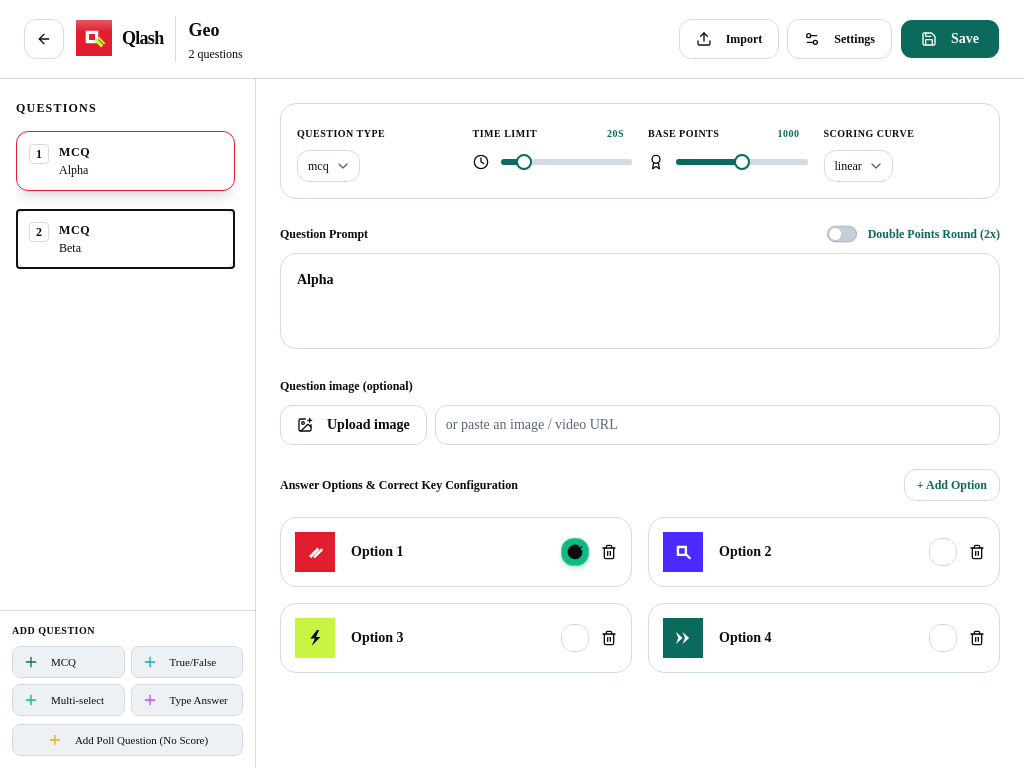
Test: editor save and reorder › selects a question from the keyboard and names the settings switches
Step 1. Press Enter
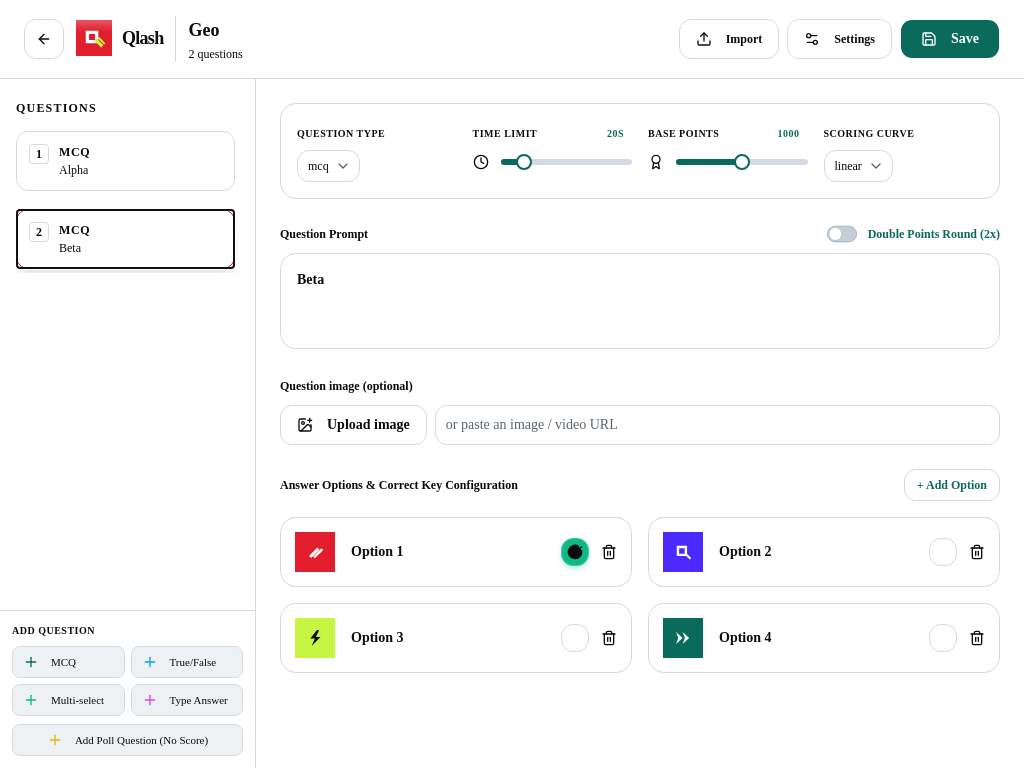
Check: the text box showing "Beta" is shown, box [280, 253, 1000, 349]
Step 2. Click the button "Settings" → (840, 39), box [787, 19, 892, 59]
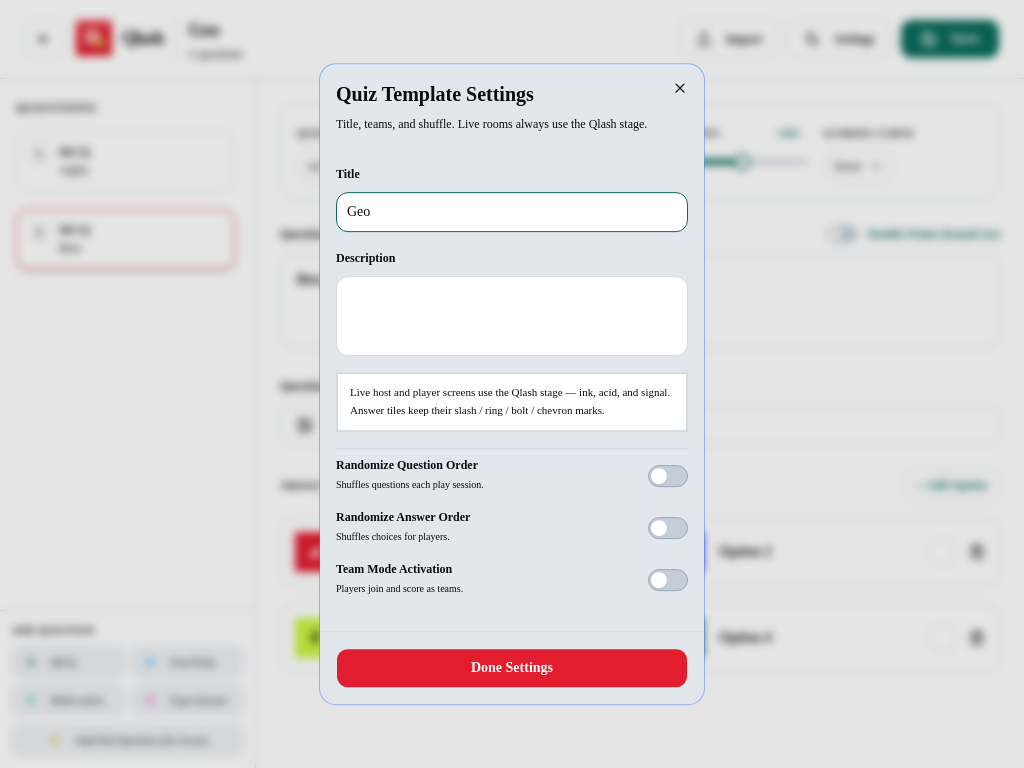
Check: the switch named "Randomize Question Order" in the row of "Shuffles questions each play session." is shown, box [648, 465, 688, 487]
Check: the switch named "Randomize Answer Order" in the row of "Randomize Answer Order" is shown, box [648, 517, 688, 539]
Check: the switch named "Team Mode Activation" in the row of "Players join and score as teams." is shown, box [648, 569, 688, 591]
